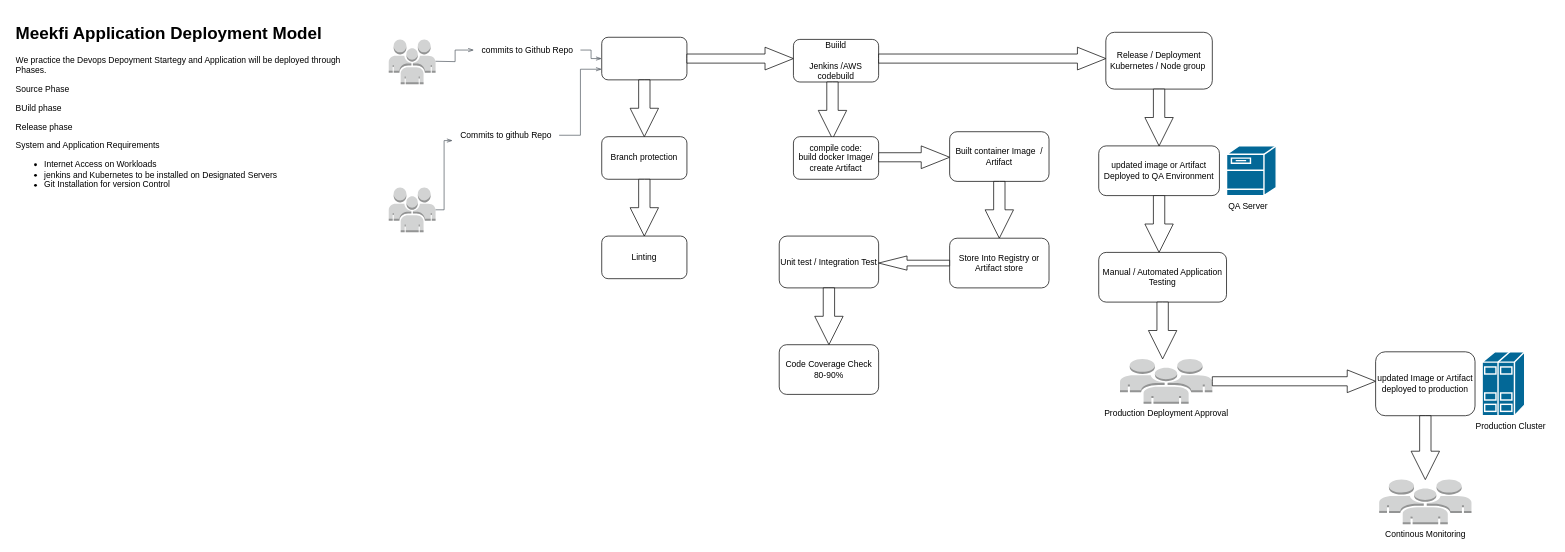
This 1565x552 diagram has some shape labels left out. Each missing label, with the centre of its shape:
Developers: (x=412, y=61)
Source Git hub etc: (x=644, y=58)
System Architects or Devops Engineer: (x=412, y=209)
